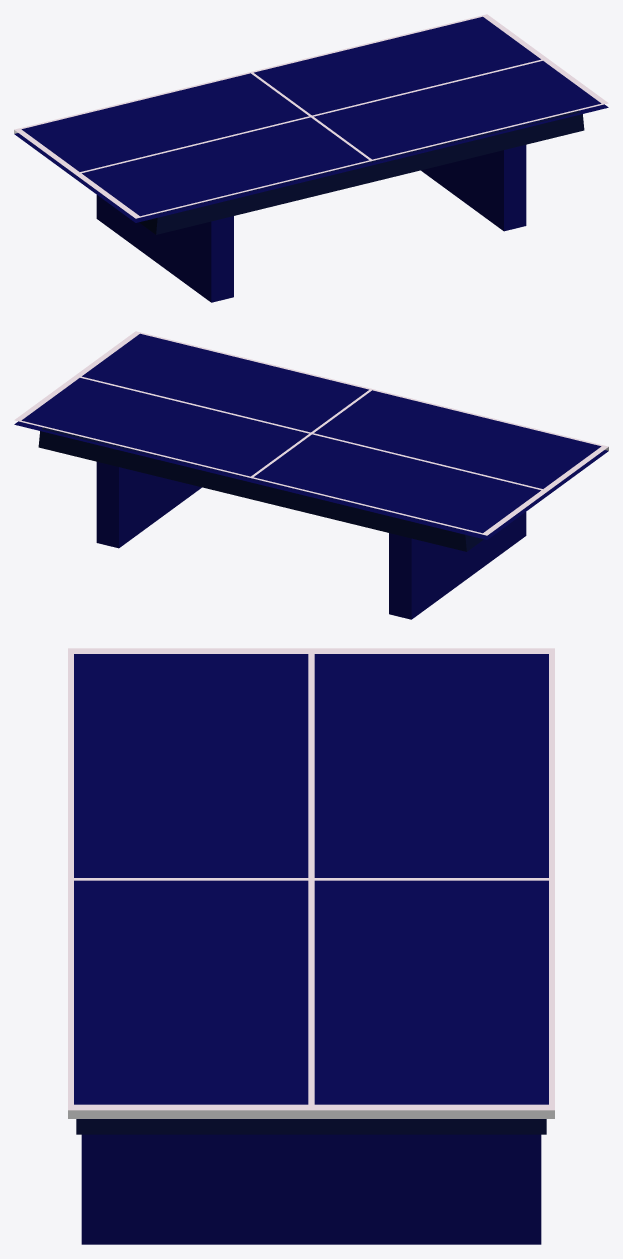
3 renders of one model, top to bottom at view 1: azimuth 30°, elevation 25°; view 2: azimuth 150°, elevation 25°; view 3: azimuth 270°, elevation 25°, orthographic. The views are drawn at different scales.
Visible parts, largest first — view 1: Cube, Cube.002, Cube.001, Cube.004; view 2: Cube, Cube.002, Cube.001, Cube.004; view 3: Cube, Cube.002, Cube.004, Cube.001, Cube.003.
Part boxes in pixels (x1,y1,x2,y2): Cube: (14,16,608,222); Cube.002: (96,145,526,302); Cube.001: (139,110,584,234); Cube.004: (14,14,608,218); Cube: (14,333,608,539); Cube.002: (96,462,526,619); Cube.001: (38,427,483,551); Cube.004: (14,331,608,535); Cube: (74,654,548,1104); Cube.002: (81,1134,541,1244); Cube.004: (68,648,554,1110); Cube.001: (76,1119,546,1134); Cube.003: (68,1110,554,1118).
Size of the model in its own units: 9.76 by 2.09 by 4.35.
